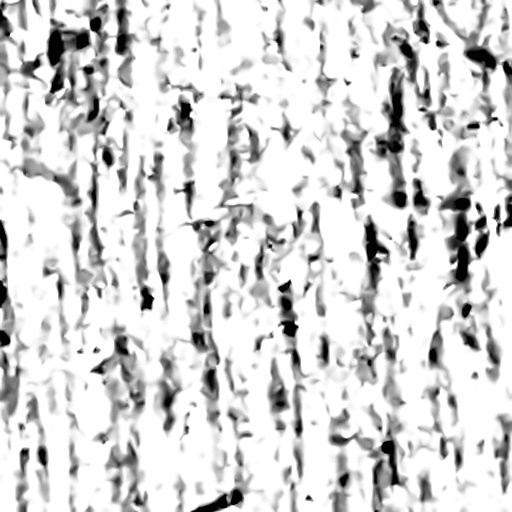egg: (192, 489, 241, 511), (49, 32, 61, 64)
